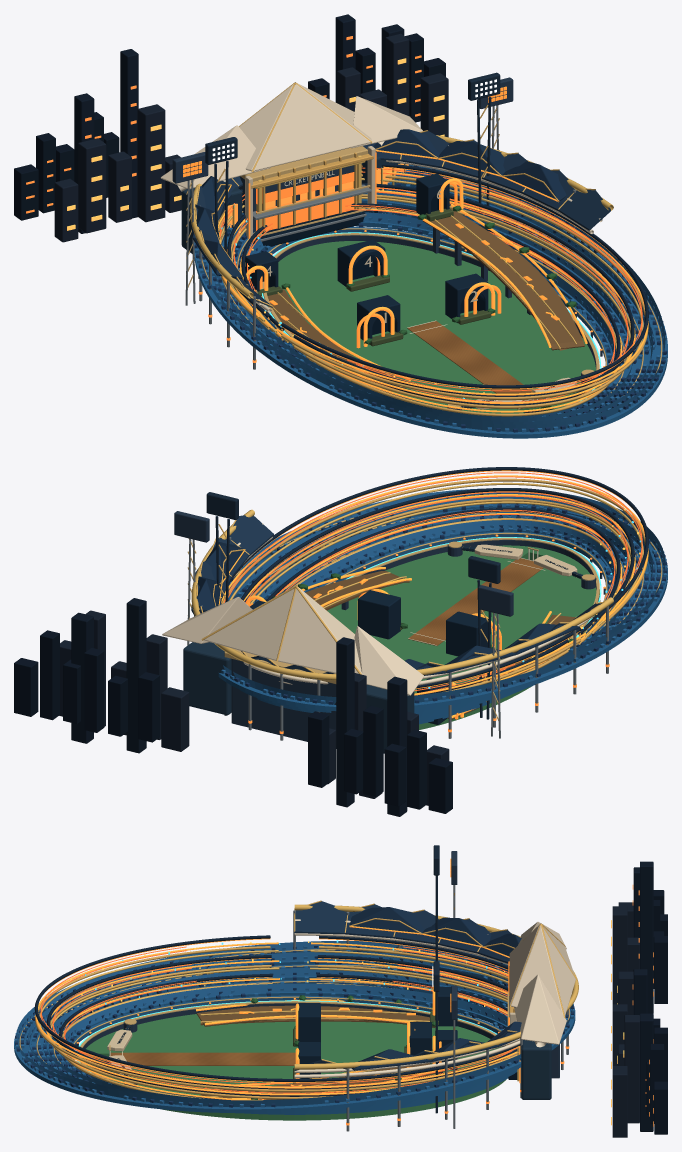
File: cricket-stadium-colosseum-r13.glb
3 views of the same model, one above another, from view 1: azimuth 30°, elevation 25°; view 2: azimuth 150°, elevation 25°; view 3: azimuth 270°, elevation 25° (orthographic). The views are drawn at different scales.
Visible parts, largest first — view 1: Arena_Field_Substrate, R9_Six_Lane, R9_Pavilion_Tensile_0, Seating_Terrace_09, Crowd_Band_09, Individual_Seats_0, Individual_Seats_1, Crowd_Band_07, Crowd_Band_04, R9_City_3, R11_Tier_Upper_2, Measured_Pitch (+63 smaller); view 2: Arena_Field_Substrate, Crowd_Band_09, Pavilion_Shell, Individual_Seats_0, Individual_Seats_1, Seating_Terrace_09, R9_Pavilion_Tensile_3, Crowd_Band_01, R7_Pavilion_Wing_Mass_1, R9_Pavilion_Tensile_2, R11_Tier_Upper_2, R7_Upper_Fascia_2 (+69 smaller); view 3: Arena_Field_Substrate, Crowd_Band_09, Seating_Terrace_09, Crowd_Band_01, R11_Tier_Upper_2, Individual_Seats_0, Individual_Seats_1, R11_Tier_Lower_2, Crowd_Band_04, Crowd_Band_07, R11_Tier_Upper_1, Measured_Pitch (+61 smaller).
Boxes of the visible parts, <box> form: Arena_Field_Substrate: <box>278,241,599,413</box>; R9_Six_Lane: <box>422,208,584,350</box>; R9_Pavilion_Tensile_0: <box>253,84,370,171</box>; Seating_Terrace_09: <box>194,170,667,438</box>; Crowd_Band_09: <box>197,164,665,431</box>; Individual_Seats_0: <box>194,167,666,432</box>; Individual_Seats_1: <box>194,165,667,432</box>; Crowd_Band_07: <box>213,171,652,424</box>; Crowd_Band_04: <box>232,192,634,421</box>; R9_City_3: <box>137,104,165,222</box>; R11_Tier_Upper_2: <box>220,163,648,388</box>; Measured_Pitch: <box>407,321,542,409</box>; Arena_Field_Substrate: <box>327,545,600,729</box>; Crowd_Band_09: <box>223,488,665,704</box>; Pavilion_Shell: <box>231,659,336,748</box>; Individual_Seats_0: <box>221,493,667,704</box>; Individual_Seats_1: <box>225,493,667,704</box>; Seating_Terrace_09: <box>218,522,667,710</box>; R9_Pavilion_Tensile_3: <box>278,589,358,673</box>; Crowd_Band_01: <box>297,520,616,657</box>; R7_Pavilion_Wing_Mass_1: <box>183,642,231,715</box>; R9_Pavilion_Tensile_2: <box>204,588,294,660</box>; R11_Tier_Upper_2: <box>229,467,648,688</box>; R7_Upper_Fascia_2: <box>191,509,613,680</box>; Arena_Field_Substrate: <box>82,1014,507,1120</box>; Crowd_Band_09: <box>16,941,572,1106</box>; Seating_Terrace_09: <box>14,950,575,1112</box>; Crowd_Band_01: <box>62,983,507,1100</box>; R11_Tier_Upper_2: <box>34,935,520,1081</box>; Individual_Seats_0: <box>15,945,574,1107</box>; Individual_Seats_1: <box>15,945,574,1107</box>; R11_Tier_Lower_2: <box>35,946,517,1091</box>; Crowd_Band_04: <box>45,967,507,1100</box>; Crowd_Band_07: <box>28,952,508,1100</box>; R11_Tier_Upper_1: <box>47,955,517,1089</box>; Measured_Pitch: <box>110,1052,295,1065</box>.
Bounding box in the file's own units: 13.13 × 5.16 × 19.12.
48 materials, 1 textured.
